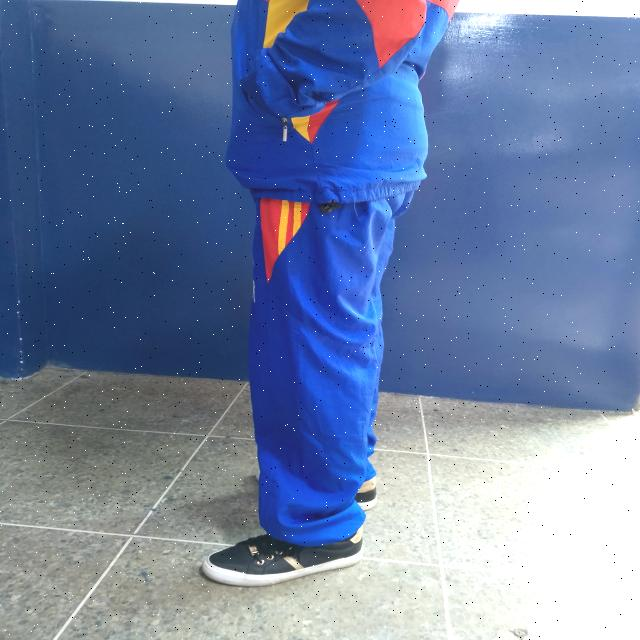chaqueta_unefa: (223, 0, 450, 204)
uniforme_superior: (246, 189, 418, 548)
